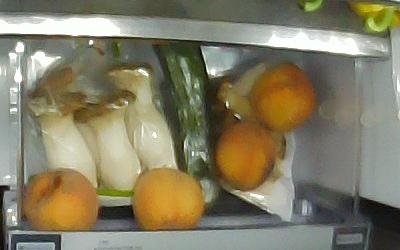peach: (249, 62, 318, 130), (23, 169, 98, 229), (215, 121, 277, 192), (132, 168, 203, 228)
